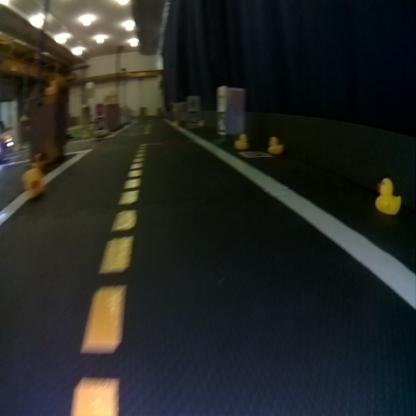Duckie: (375, 178, 400, 214), (22, 167, 41, 196), (268, 136, 282, 153), (234, 133, 248, 149)
QR code: (217, 111, 223, 132)
